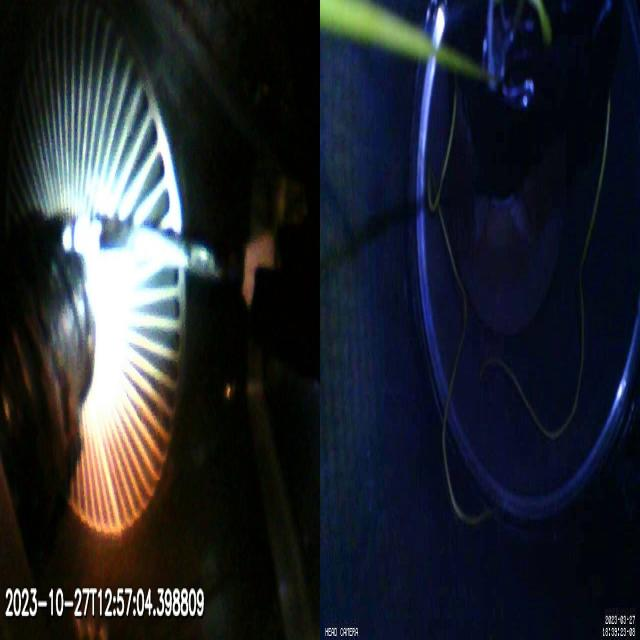head: (243, 236, 277, 303)
white-dots: (63, 216, 101, 257)
